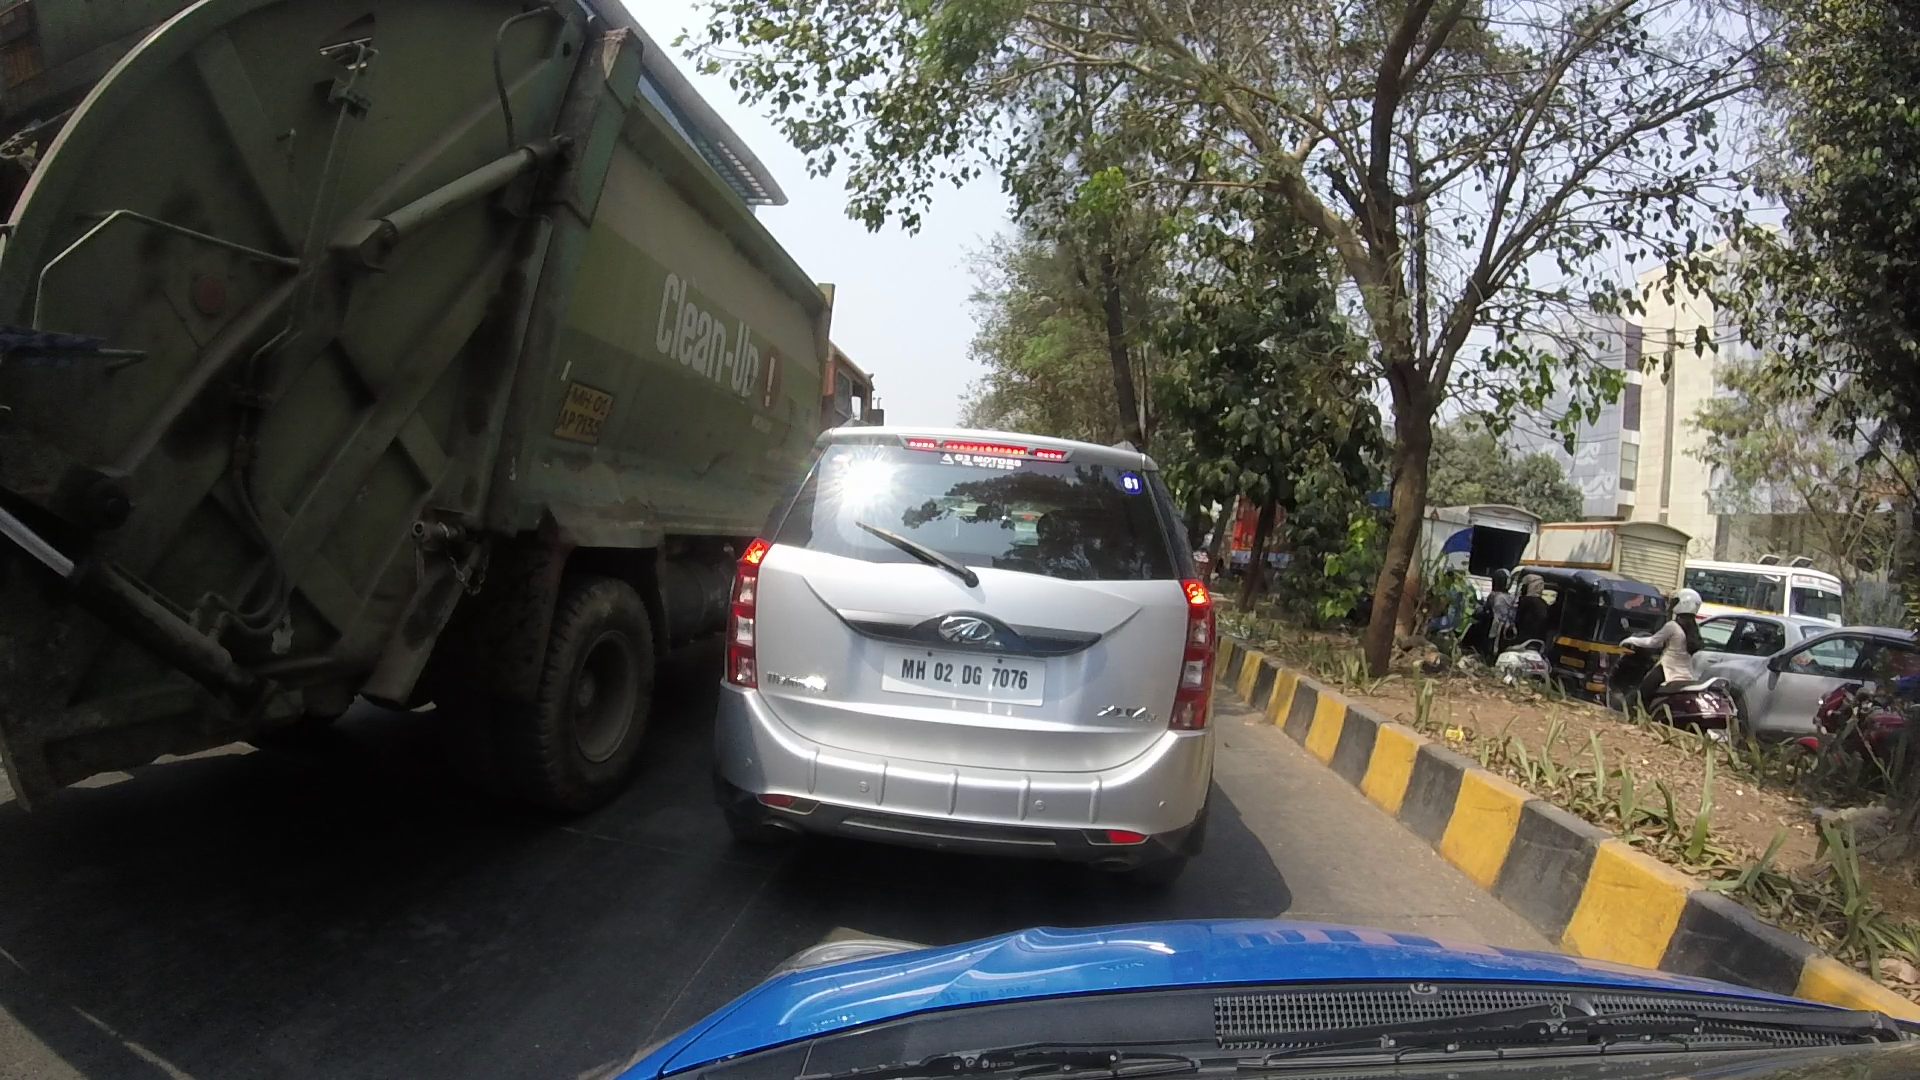car: (692, 375, 1230, 845)
